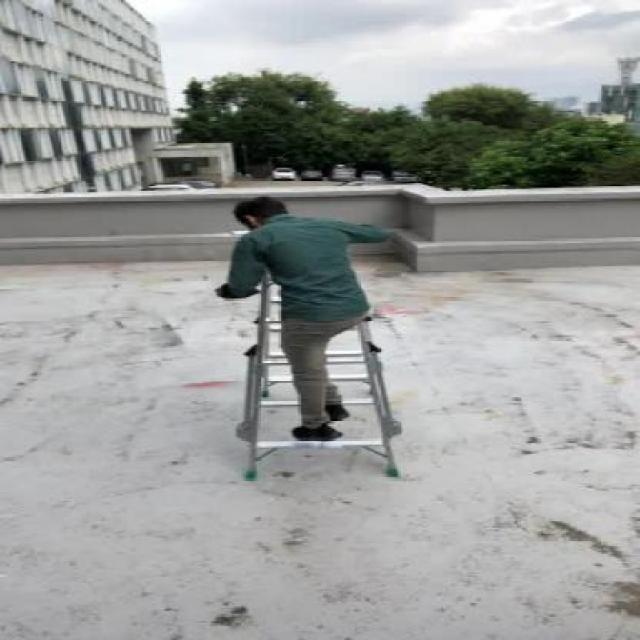hard hat: (213, 254, 415, 481)
vest: (206, 194, 410, 451)
